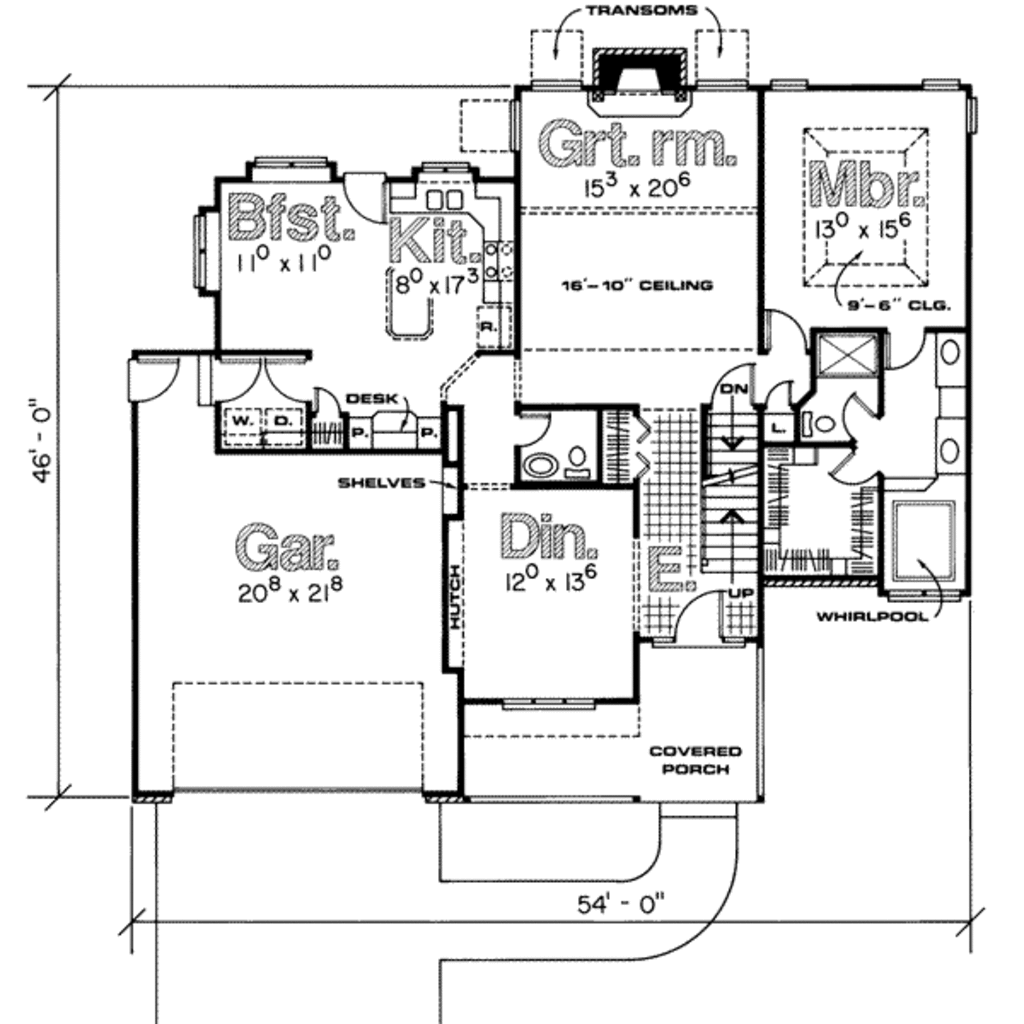door: (673, 586, 742, 653), (190, 351, 265, 410), (333, 164, 401, 223), (703, 356, 758, 419), (112, 355, 184, 403), (828, 440, 882, 488), (836, 386, 883, 441), (762, 303, 809, 354), (263, 356, 313, 403), (886, 327, 931, 373), (506, 406, 553, 448), (759, 375, 801, 413), (304, 387, 337, 422)
large_sink: (569, 437, 604, 488), (801, 401, 845, 438)
small_sink: (936, 415, 973, 475), (938, 332, 970, 397), (523, 445, 566, 480)
stairs: (708, 417, 771, 583)
twin_sink: (417, 174, 467, 218)
window: (492, 691, 609, 715), (921, 64, 968, 98), (767, 72, 822, 100), (953, 93, 984, 136)
